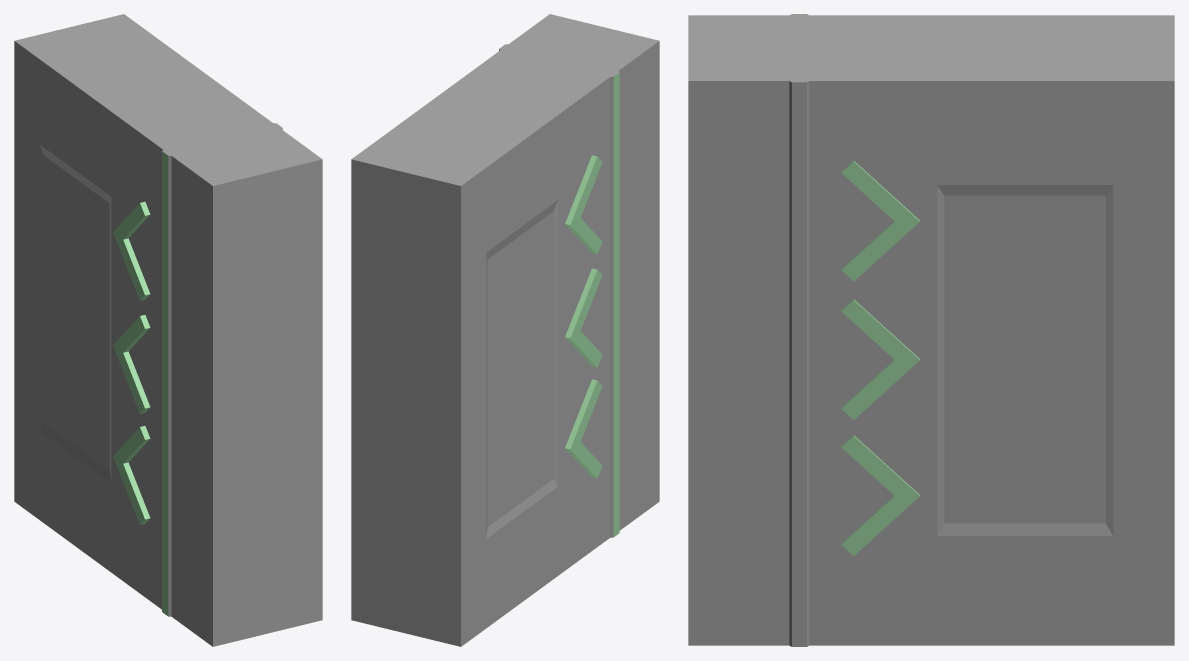
Rendered from Door (YelGreeRed).fbx.
3 views of the same model, side by side, from view 1: azimuth 30°, elevation 25°; view 2: azimuth 150°, elevation 25°; view 3: azimuth 270°, elevation 25° (orthographic). The views are drawn at different scales.
Visible parts, largest first — view 1: pCube853; view 2: pCube853; view 3: pCube853.
Boxes of the visible parts, x1,y1,x2,y2 form: pCube853: [14, 14, 322, 646]; pCube853: [351, 14, 659, 646]; pCube853: [688, 14, 1174, 646].
Bounding box in the file's own units: 4.06 × 15.22 × 11.88.
